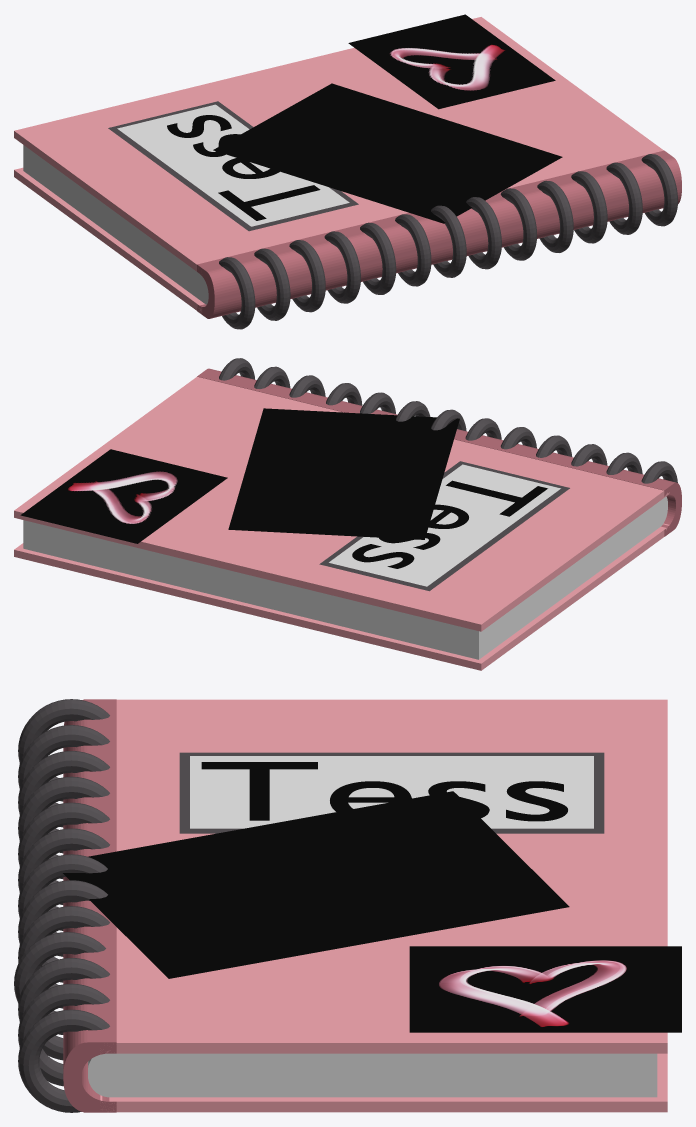
The model's file is book2.fbx.
The picture shows the model from 3 angles, top to bottom: view 1: azimuth 30°, elevation 25°; view 2: azimuth 150°, elevation 25°; view 3: azimuth 270°, elevation 25°; orthographic projection. The views are drawn at different scales.
Parts seen in each view (by area): view 1: Cube.001, loveSchool, Cube.004, coeur, Plane.001, Cube.002, Test, Plane, Torus.009, Torus.001, Torus.006, Torus.010 (+9 smaller); view 2: Cube.001, loveSchool, Cube.002, coeur, Plane.001, Cube.004, Test, Plane, Torus.009, Torus.010, Torus.003, Torus.004 (+7 smaller); view 3: Cube.001, loveSchool, coeur, Cube.002, Plane.001, Cube.004, Test, Plane, Torus.012, Torus.011, Torus.010, Torus.009 (+10 smaller).
Part boxes in pixels (x1,y1,x2,y2): Cube.001: (14,17,663,313); loveSchool: (213,83,562,223); Cube.004: (197,150,681,318); coeur: (348,14,555,109); Plane.001: (117,104,349,226); Cube.002: (23,145,196,296); Test: (167,115,320,220); Plane: (108,101,358,231); Torus.009: (537,180,573,252); Torus.001: (395,214,431,286); Torus.006: (219,257,255,329); Torus.010: (571,171,607,243); Cube.001: (14,376,669,670); loveSchool: (228,408,459,539); Cube.002: (23,507,652,659); coeur: (20,449,227,543); Plane.001: (329,464,560,586); Cube.004: (197,368,681,536); Test: (352,480,547,568); Plane: (319,461,569,591); Torus.009: (326,383,362,405); Torus.010: (289,375,325,397); Torus.003: (536,435,572,457); Torus.004: (571,444,607,466); Cube.001: (100,699,667,1112); loveSchool: (63,791,569,978); coeur: (409,946,681,1032); Cube.002: (135,1053,657,1097); Plane.001: (190,756,593,828); Cube.004: (63,699,116,1112); Test: (201,762,567,821); Plane: (179,752,604,833); Torus.012: (18,1009,109,1112); Torus.011: (18,983,109,1086); Torus.010: (18,958,109,1060); Torus.009: (14,932,105,1034).
Size of the model in its own units: 398 by 55 by 327.
9 materials, 2 textured.
